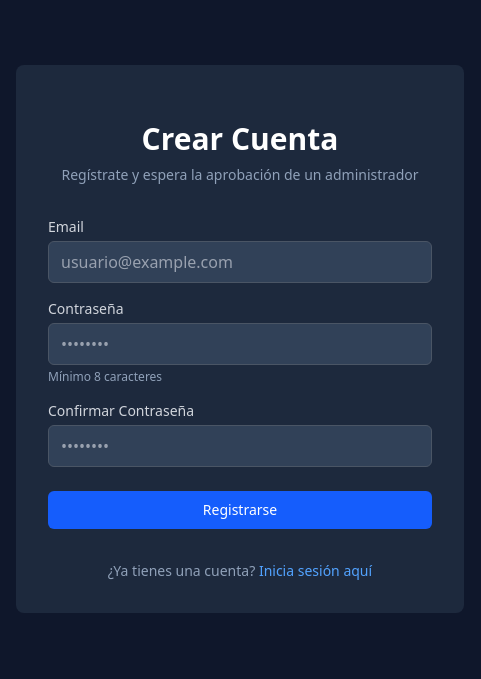
Test: SigninPage › debe mostrar error cuando la contraseña es muy corta
The image size is (481, 679).
Type "test@example.com" into the field labelled "Email".
click(240, 262); type("test@example.com")  # box [48,241,432,283]
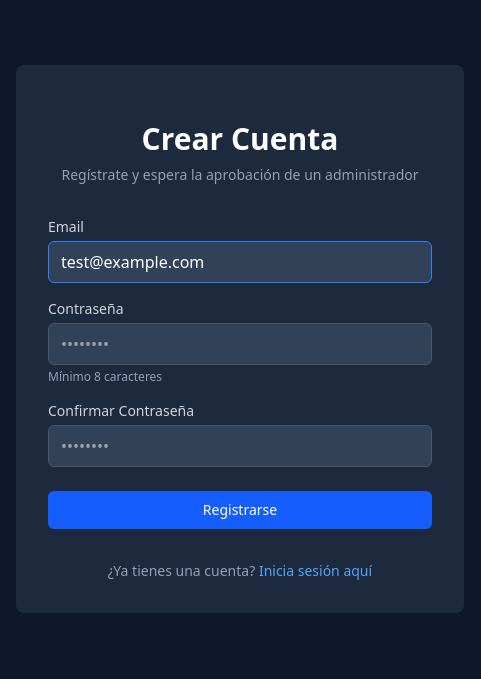
Type "short" into the password field labelled "Contraseña".
click(240, 344); type("short")  # box [48,323,432,365]
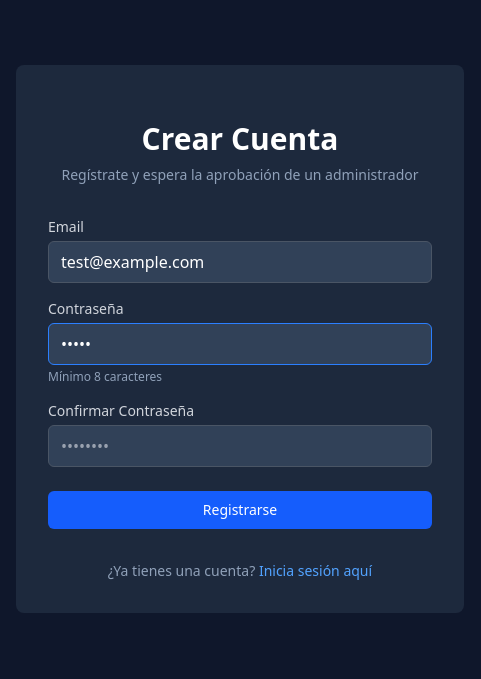
Type "short" into the password field labelled "Confirmar Contraseña".
click(240, 446); type("short")  # box [48,425,432,467]
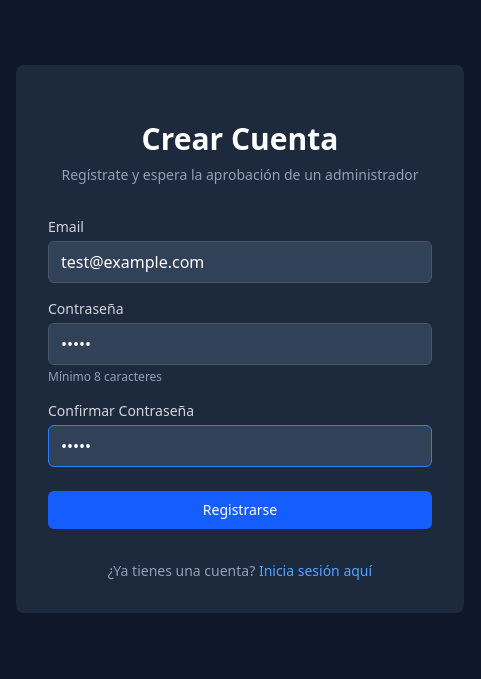
Click the button "Registrarse".
click(240, 510)  # box [48,491,432,529]
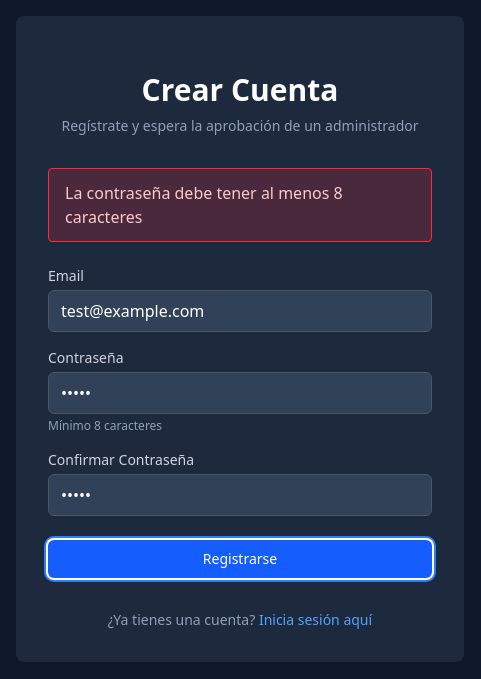
Expected: the text "La contraseña debe tener al menos 8 caracteres" is shown, [48,168,432,242]
